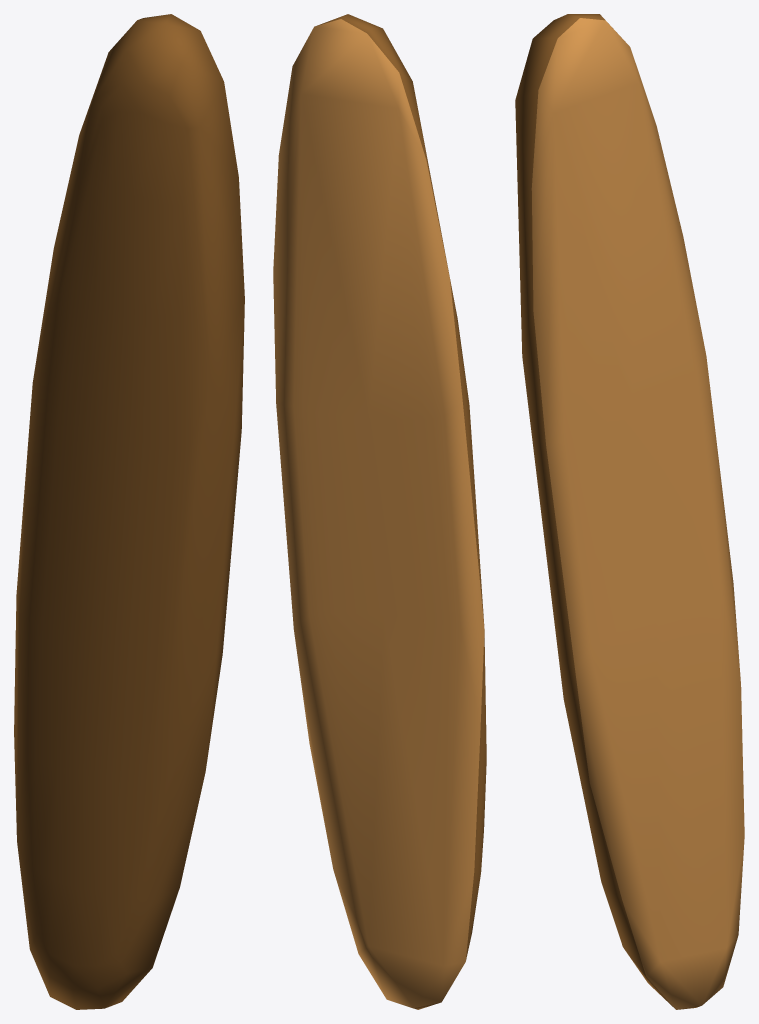
Rendered from yut-v3-regular-darker-more.glb.
The picture shows the model from 3 angles, left to right: view 1: azimuth 30°, elevation 25°; view 2: azimuth 210°, elevation 25°; view 3: azimuth 270°, elevation 25°; orthographic projection. The views are drawn at different scales.
Visible parts, largest first — view 1: yoot1; view 2: yoot1; view 3: yoot1.
Part boxes in pixels (bbox=[...]): yoot1: bbox=[14, 14, 244, 1009]; yoot1: bbox=[273, 14, 486, 1009]; yoot1: bbox=[515, 14, 744, 1009].
Size of the model in its own units: 1.85 by 12.42 by 2.58.
1 material, 1 textured.
